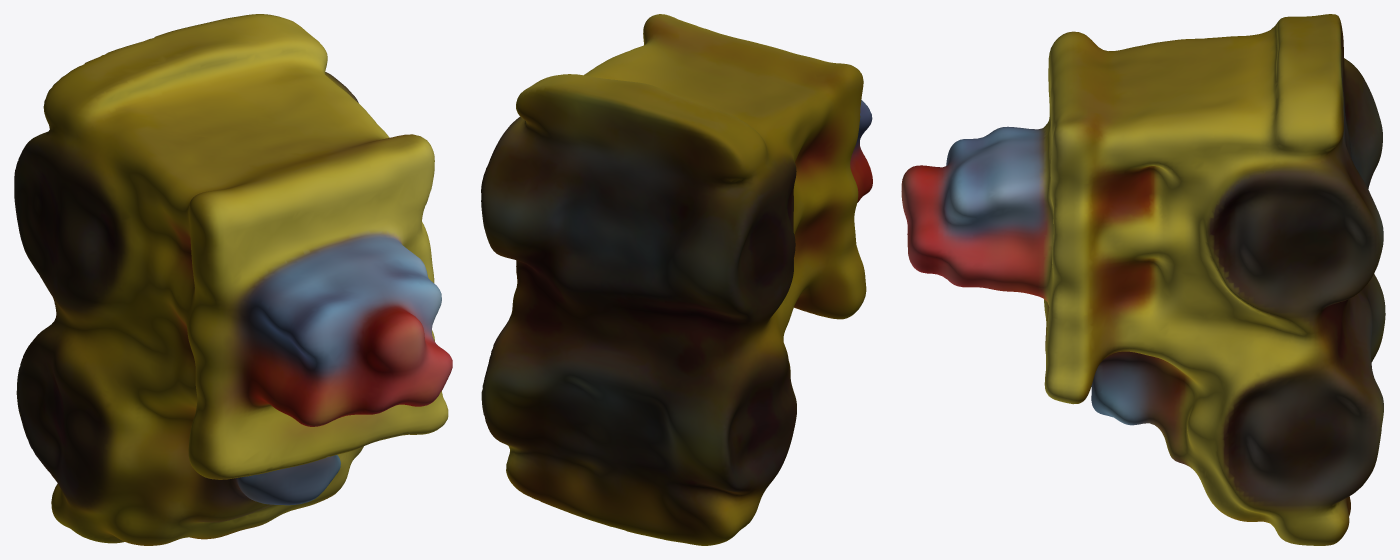
Rendered from school_bus2.glb.
The picture shows the model from 3 angles, left to right: view 1: azimuth 30°, elevation 25°; view 2: azimuth 150°, elevation 25°; view 3: azimuth 270°, elevation 25°; orthographic projection. The views are drawn at different scales.
Bounding box in the file's own units: 0.6505 × 0.9995 × 0.9612.
